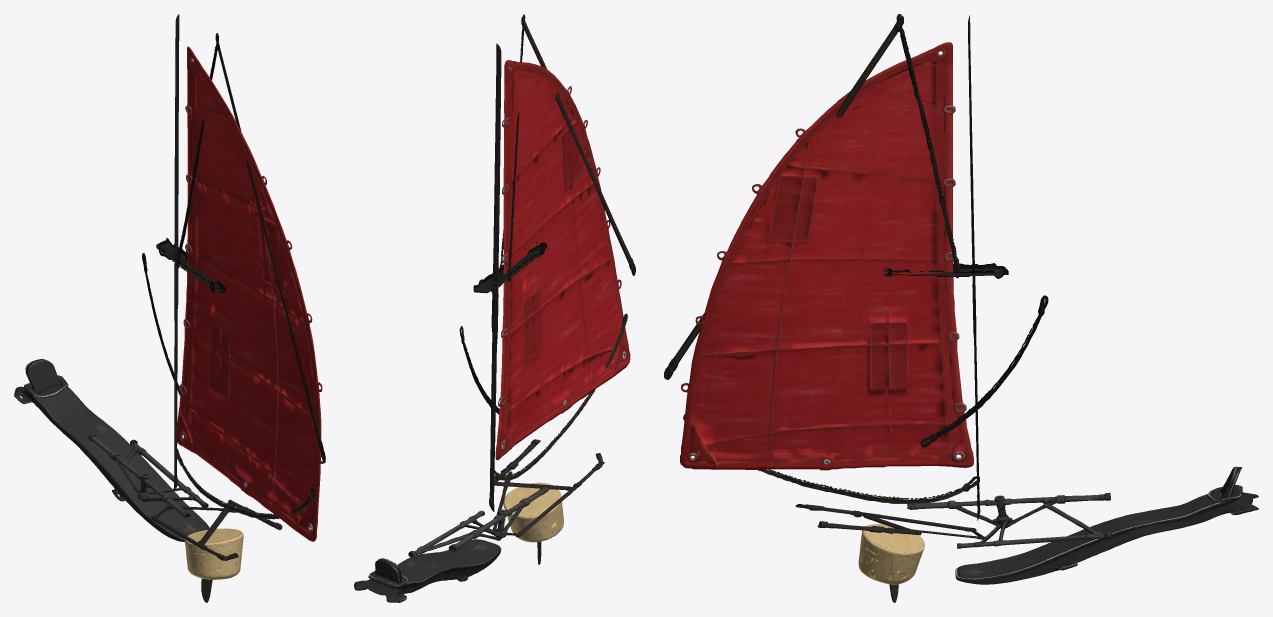
The model's file is sailboat.glb.
3 views of the same model, side by side, from view 1: azimuth 30°, elevation 25°; view 2: azimuth 150°, elevation 25°; view 3: azimuth 270°, elevation 25° (orthographic). The views are drawn at different scales.
Parts seen in each view (by area): view 1: Sail, Seat, Rigging, Basket, Lower_Frame, Mast, Bow_Frame; view 2: Sail, Seat, Rigging, Mast, Basket, Lower_Frame, Bow_Frame; view 3: Sail, Seat, Rigging, Lower_Frame, Basket, Bow_Frame, Mast.
Boxes of the visible parts, x1,y1,x2,y2 form: Sail: [176, 46, 323, 541]; Seat: [14, 359, 209, 541]; Rigging: [142, 33, 325, 519]; Basket: [184, 528, 243, 602]; Lower_Frame: [88, 433, 208, 517]; Mast: [174, 14, 179, 490]; Bow_Frame: [150, 499, 282, 560]; Sail: [495, 60, 630, 460]; Seat: [354, 539, 501, 602]; Rigging: [459, 14, 635, 480]; Mast: [489, 43, 501, 511]; Basket: [503, 482, 563, 564]; Lower_Frame: [408, 486, 549, 557]; Bow_Frame: [491, 439, 604, 537]; Sail: [680, 42, 973, 470]; Seat: [955, 466, 1258, 584]; Rigging: [664, 14, 1048, 503]; Lower_Frame: [907, 492, 1111, 548]; Basket: [858, 524, 924, 602]; Bow_Frame: [795, 504, 985, 539]; Mast: [968, 15, 980, 520].
Size of the model in its own units: 0.1239 by 1 by 0.9051.
Materials: 7 (7 with a texture image).
